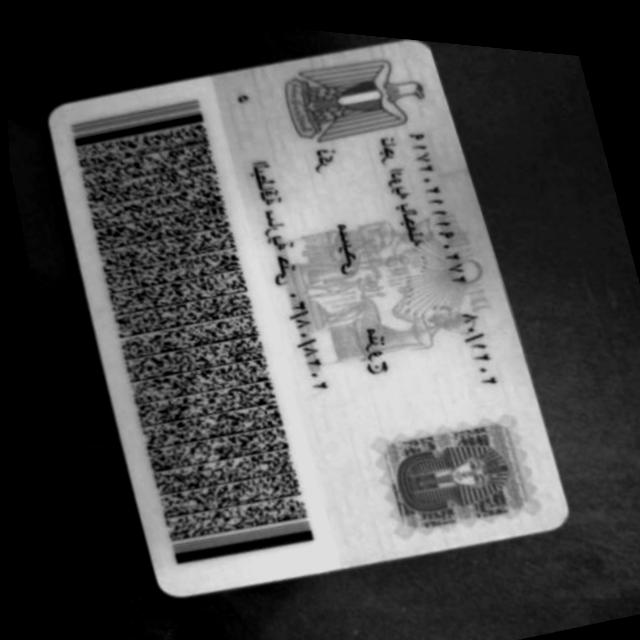back: (50, 40, 568, 595)
